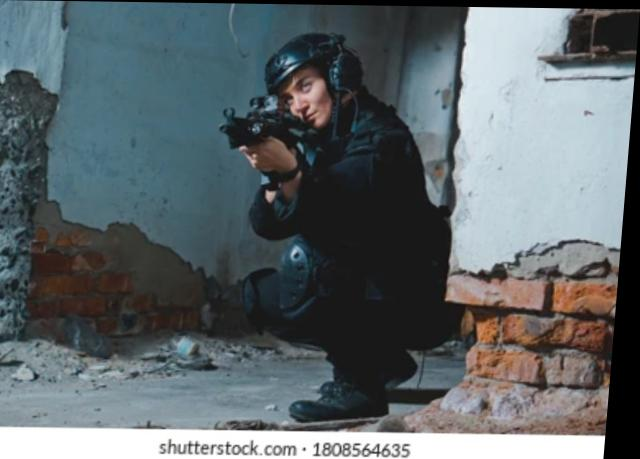other: (232, 32, 466, 410)
